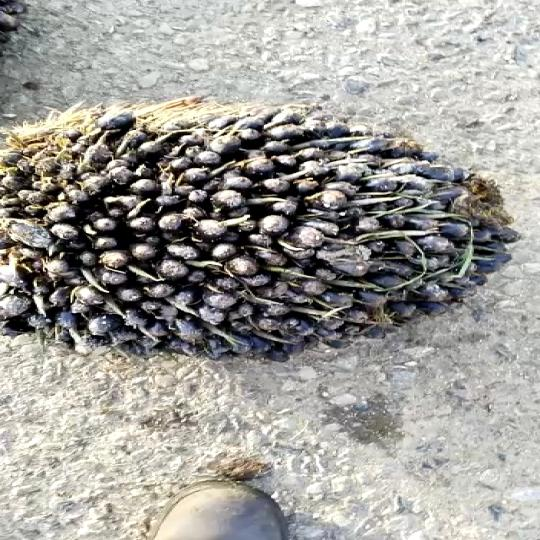mentah: (0, 83, 540, 358)
